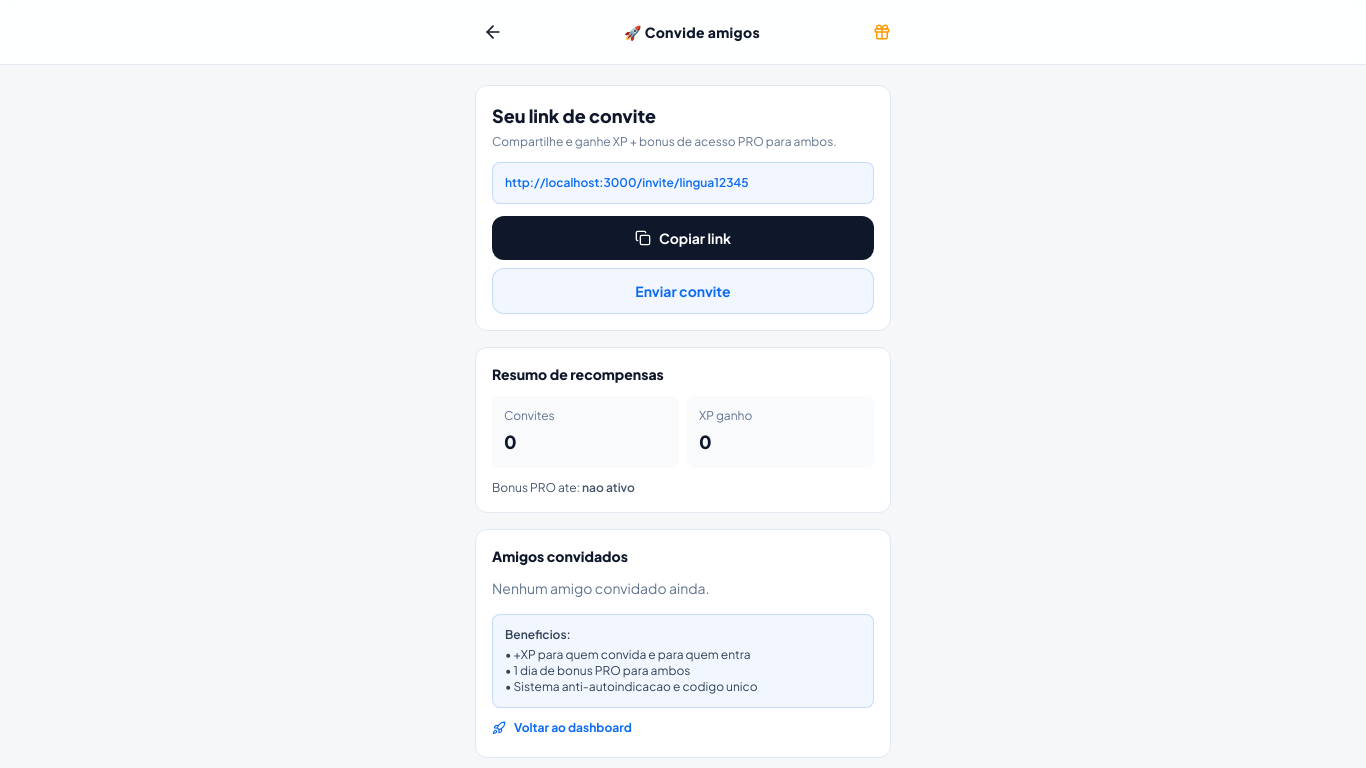
Scenario: ReferralScreen › copia o link ao clicar em "Copiar link"
Expected: the text "http://localhost:3000/invite/lingua12345" is shown, [492,162,874,204]
Click the button "Copiar link": (683, 238) [492,216,874,260]
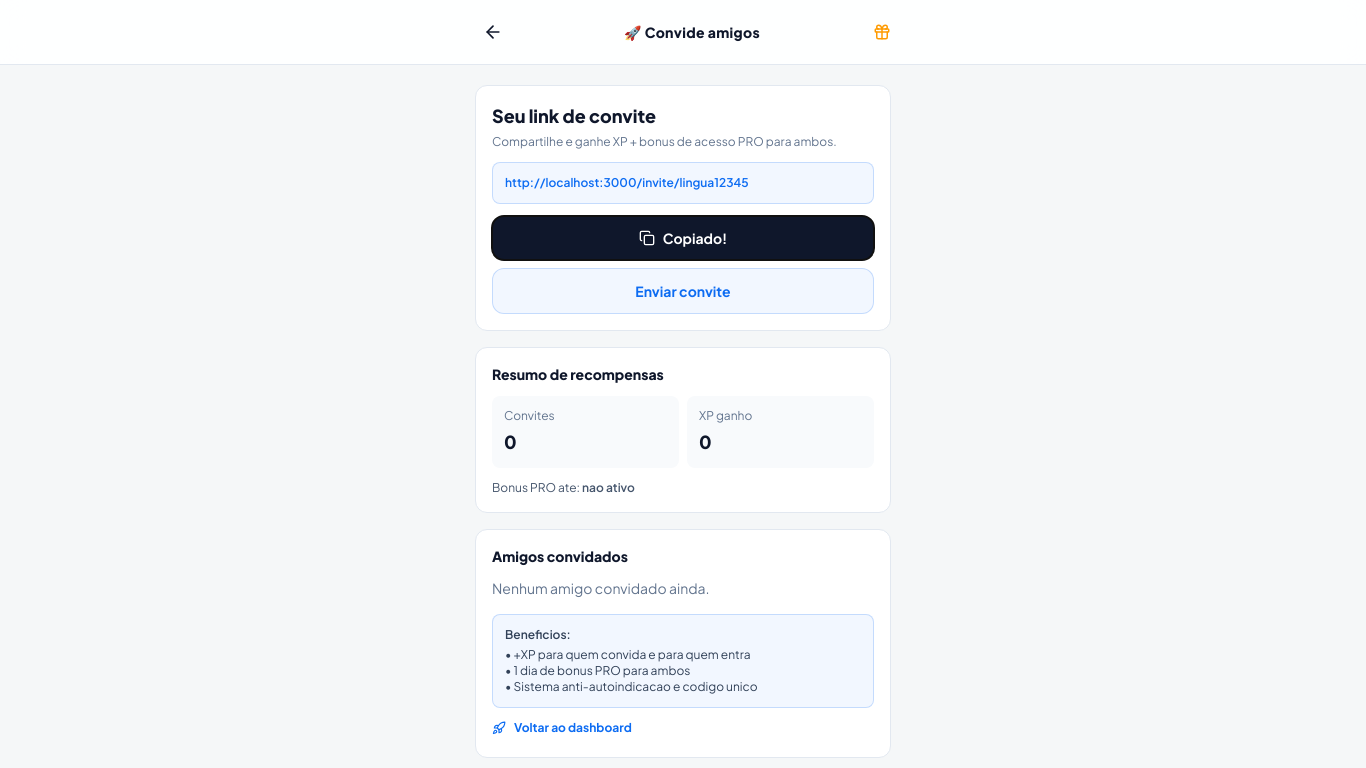
Now the button "Copiado!" is shown, box [492,216,874,260]
